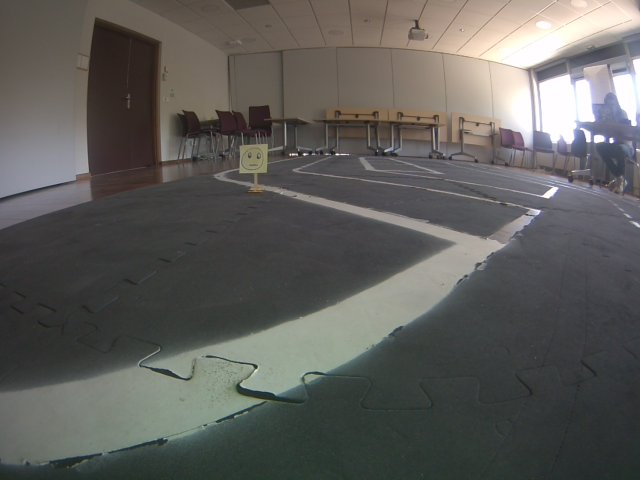Smiley: (237, 143, 269, 175)
